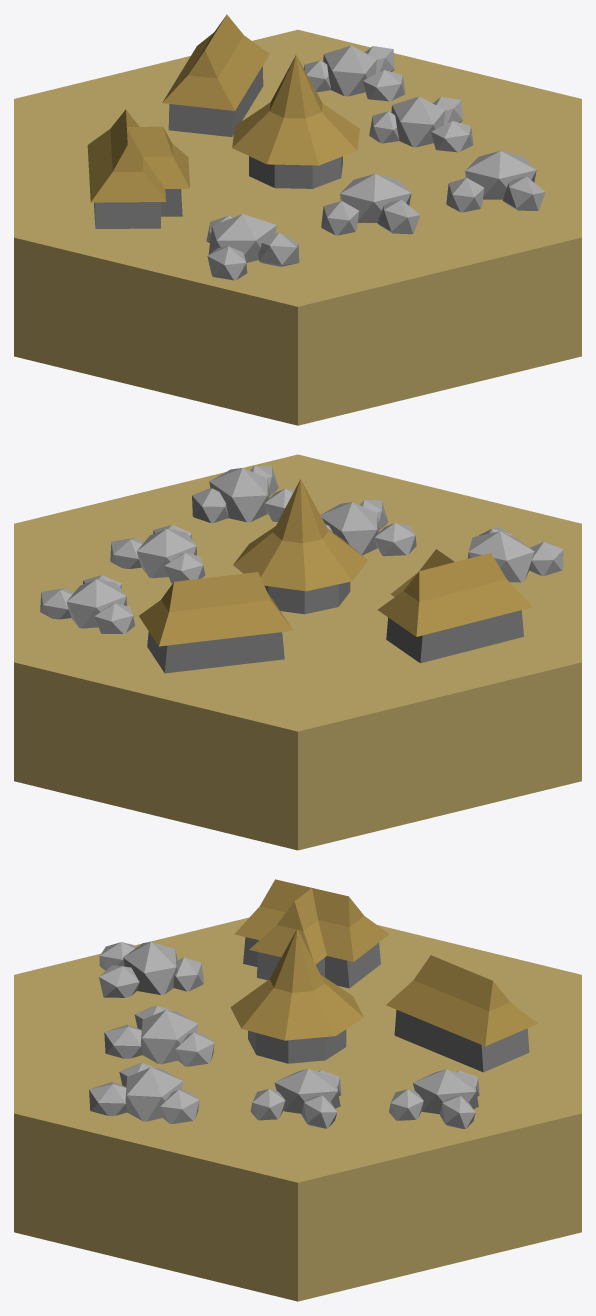
File: Casas_Rocoso_8.fbx
3 views of the same model, one above another, from view 1: azimuth 30°, elevation 25°; view 2: azimuth 150°, elevation 25°; view 3: azimuth 270°, elevation 25° (orthographic).
Visible parts, largest first — view 1: Casas_Rocoso_8; view 2: Casas_Rocoso_8; view 3: Casas_Rocoso_8.
Boxes of the visible parts, x1,y1,x2,y2 form: Casas_Rocoso_8: [14, 14, 581, 425]; Casas_Rocoso_8: [14, 454, 581, 850]; Casas_Rocoso_8: [14, 879, 581, 1301].
Size of the model in its own units: 200 by 78.5 by 173.
